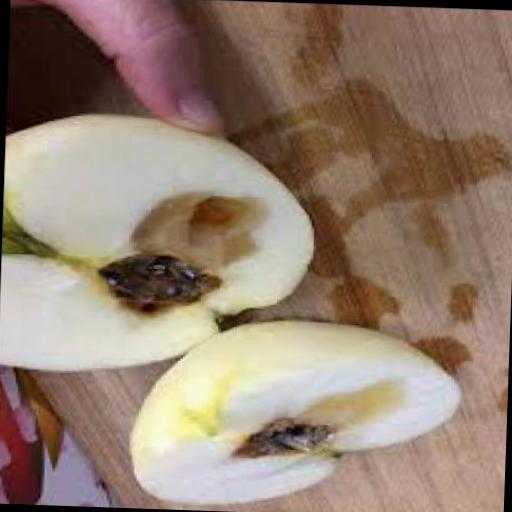biodegradable: (0, 108, 310, 379), (118, 315, 459, 512)
